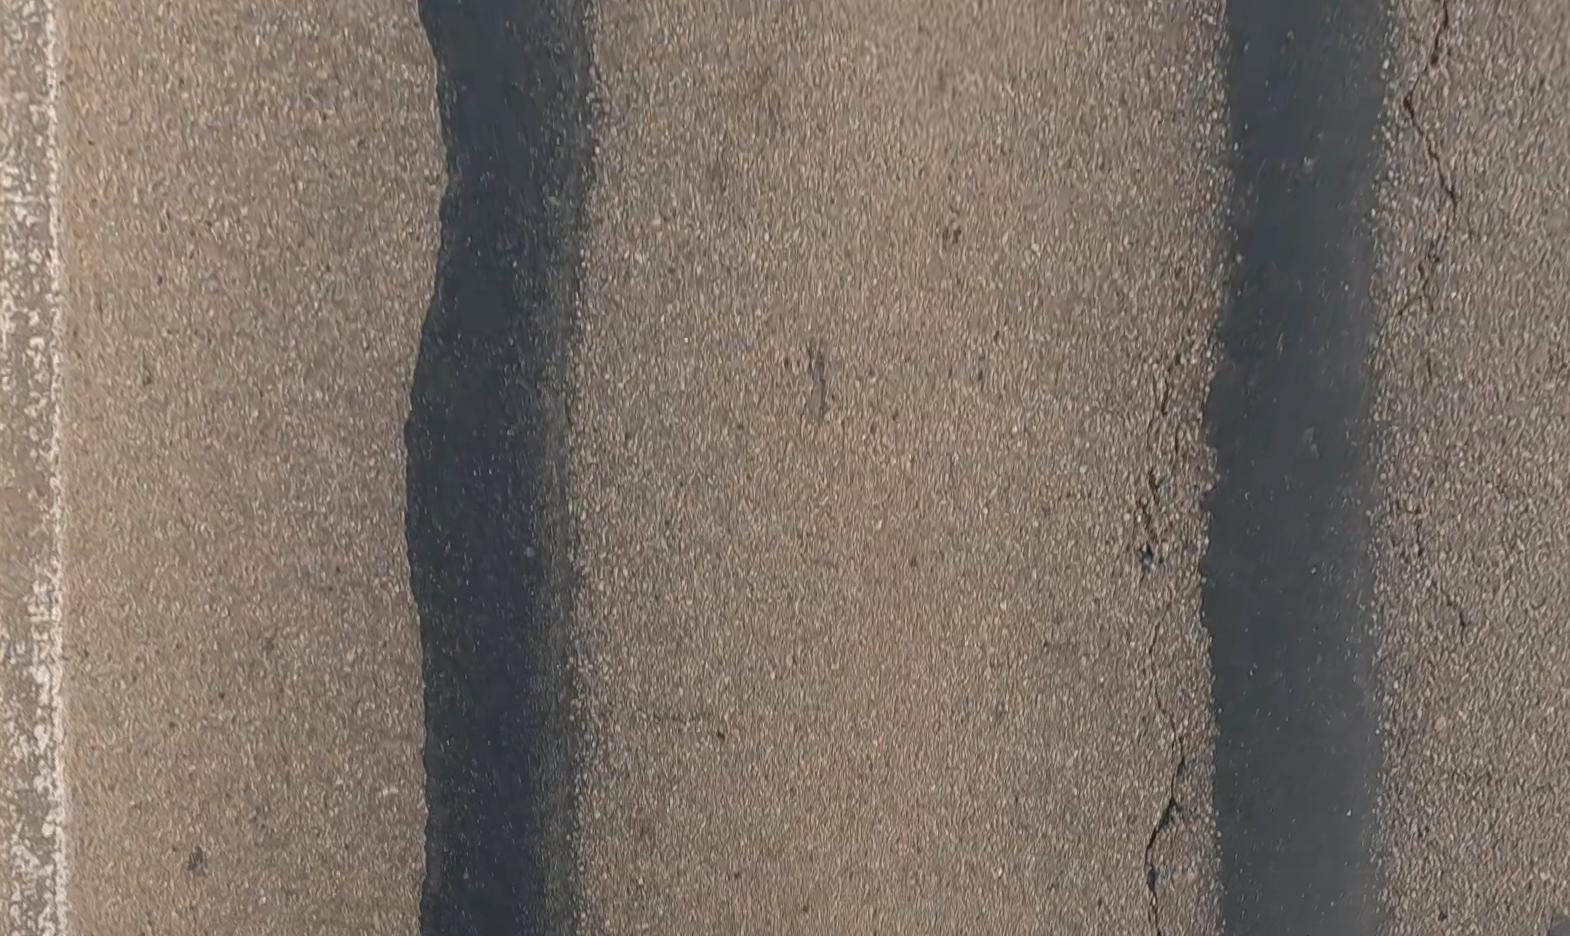pothole_patch_good: (404, 0, 593, 935), (1205, 0, 1393, 935)
